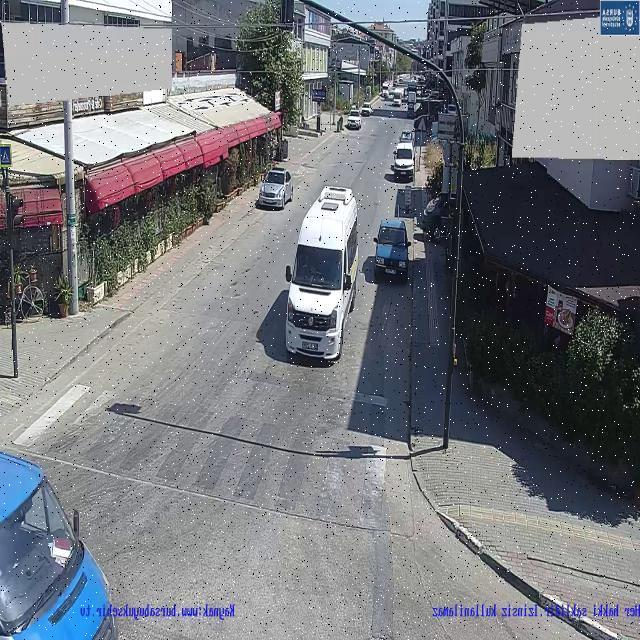car: (375, 219, 411, 281), (256, 168, 292, 208), (394, 142, 414, 179), (345, 116, 361, 129), (361, 102, 372, 116)
minivan: (0, 452, 116, 639), (285, 186, 358, 359)
traffic-lights: (1, 144, 22, 377)
